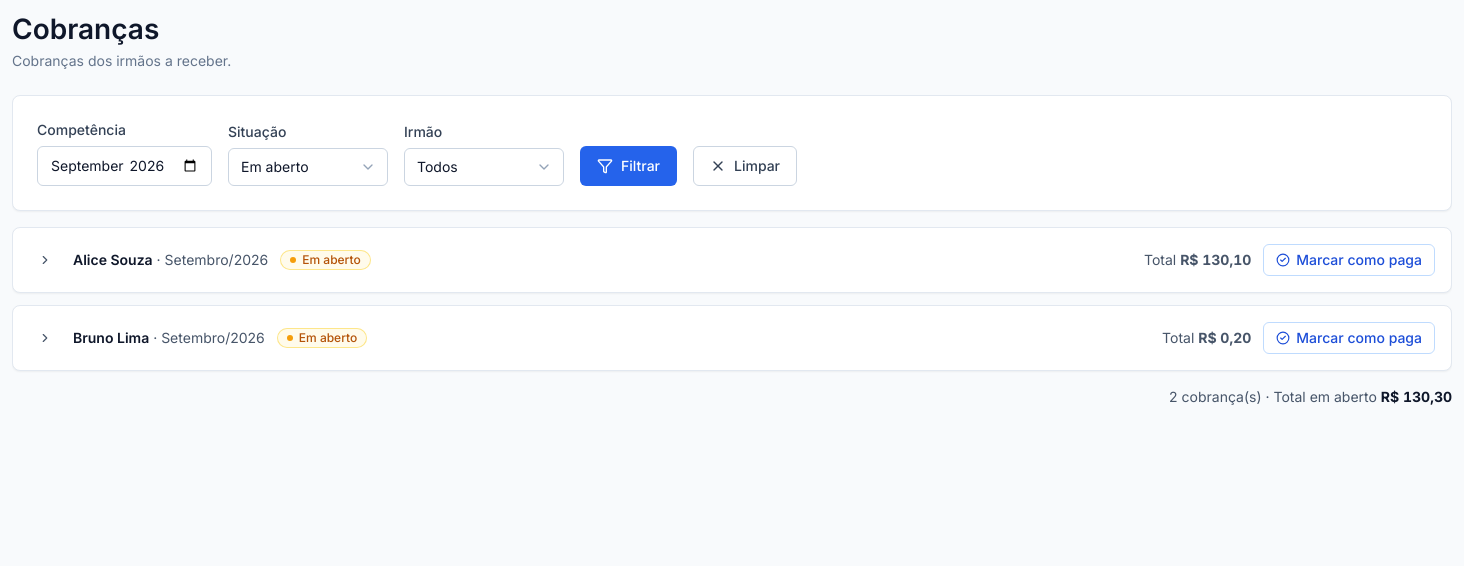
Scenario: CobrancasPage › expande e recolhe os débitos da cobrança, inclusive pelo teclado
Expected: the link "Alice Souza" is shown, [73,251,153,268]
Expected: the text "Mensalidade — Mensalidade setembro" is not shown
Click the button named "Débitos da cobrança de Alice Souza de Setembro/2026" at (45, 260), box [29,244,61,276]
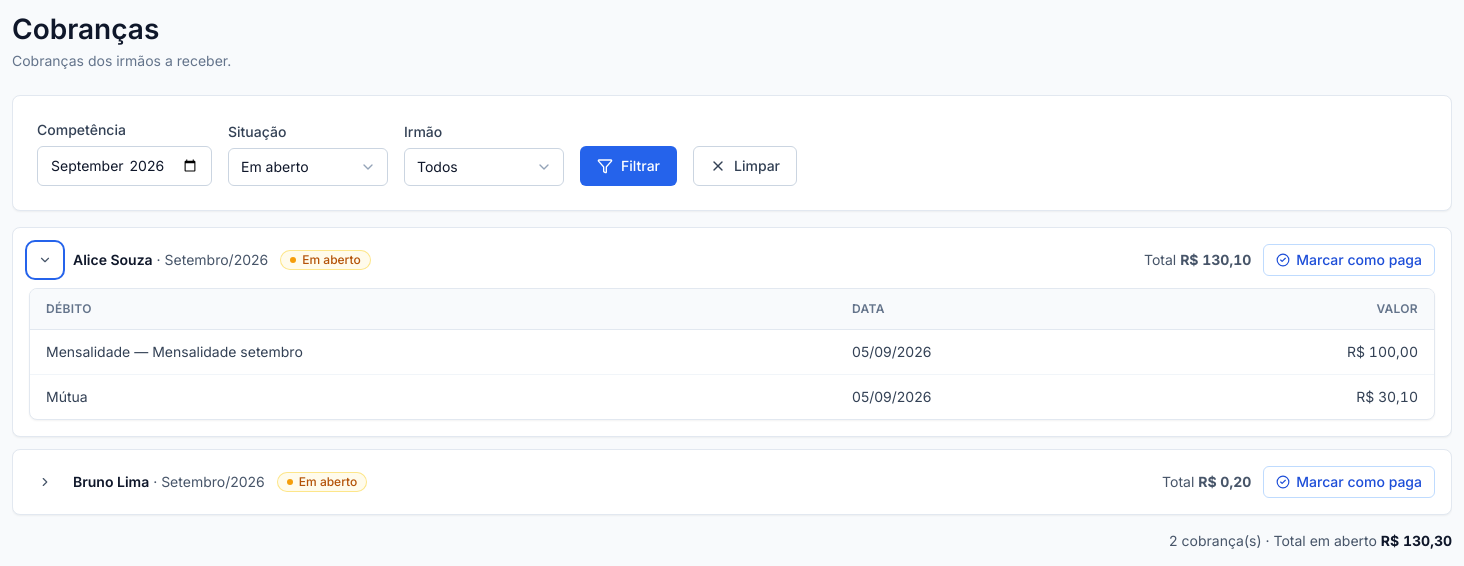
Expected: the button named "Débitos da cobrança de Alice Souza de Setembro/2026" is expanded, [29,244,61,276]
Expected: the text "Mensalidade — Mensalidade setembro" is shown, [30,330,836,374]
Expected: the text "Mútua" is shown, [30,374,836,419]
Press Enter
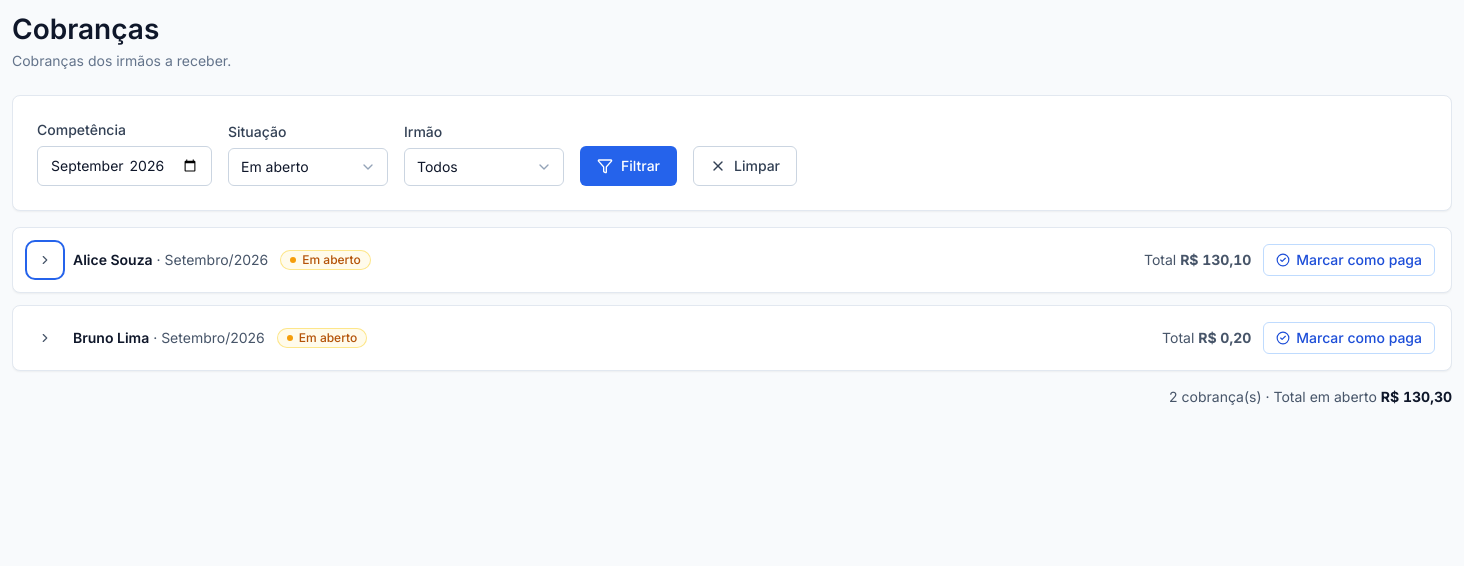
Expected: the button named "Débitos da cobrança de Alice Souza de Setembro/2026" is collapsed, [29,244,61,276]
Expected: the text "Mensalidade — Mensalidade setembro" is gone
Type keys " "
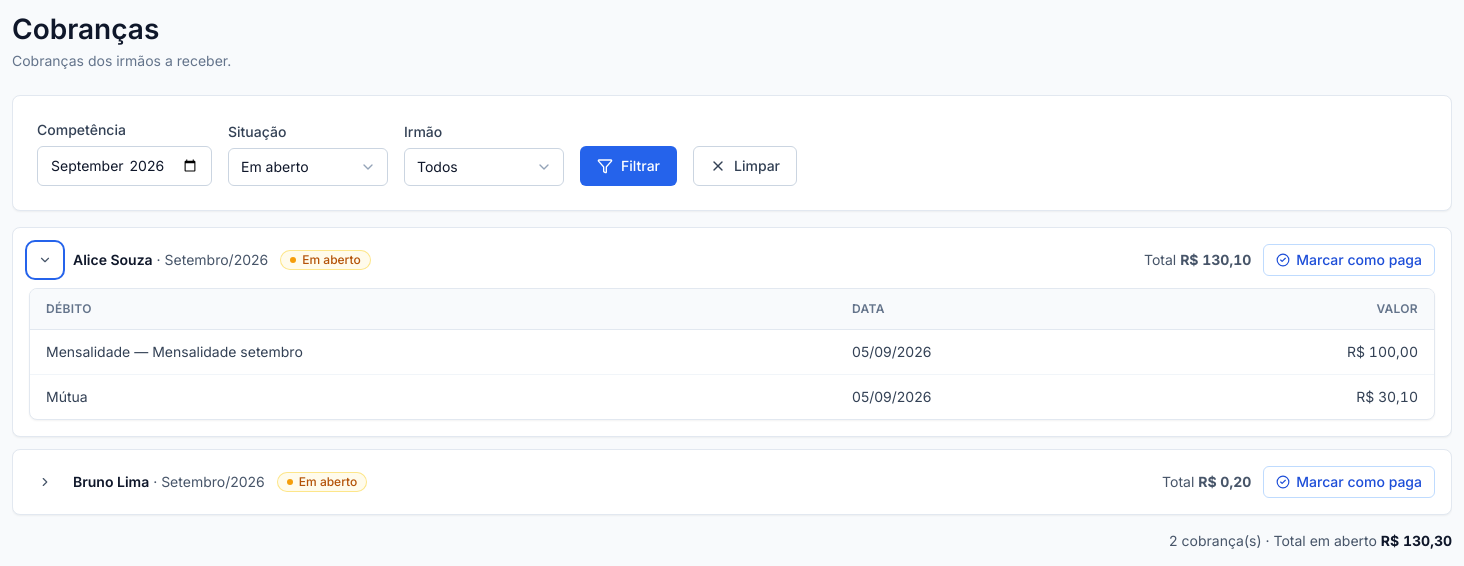
Expected: the button named "Débitos da cobrança de Alice Souza de Setembro/2026" is expanded, [29,244,61,276]
